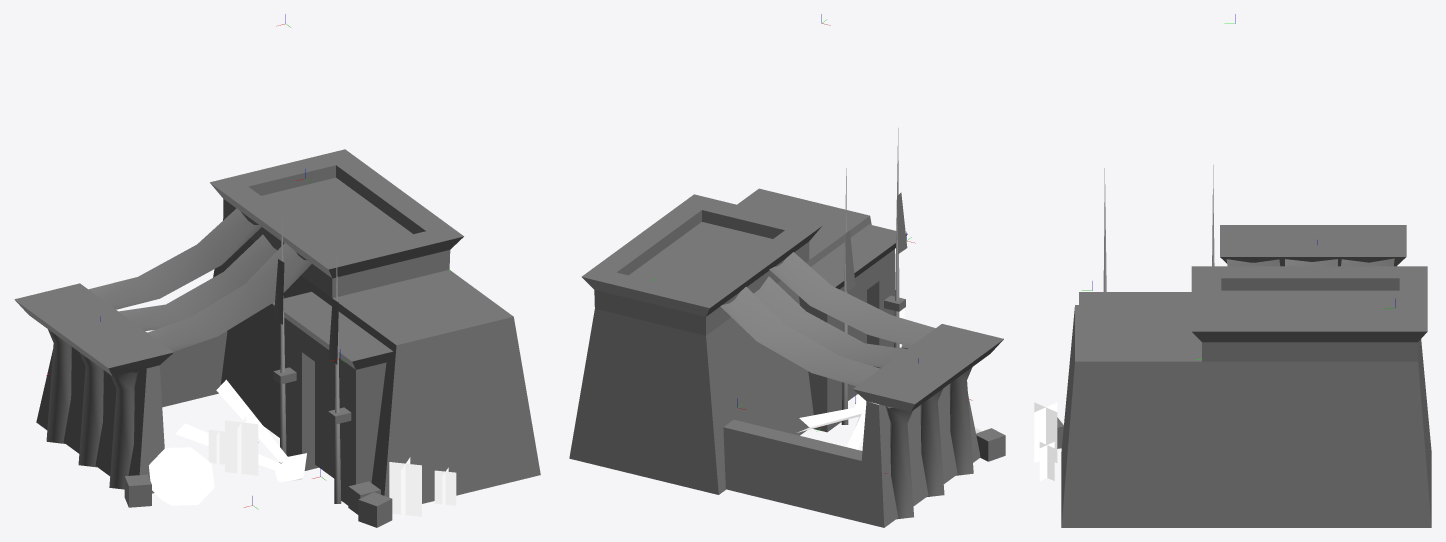
Rendered from idle.glb.
The picture shows the model from 3 angles, left to right: view 1: azimuth 30°, elevation 25°; view 2: azimuth 150°, elevation 25°; view 3: azimuth 270°, elevation 25°; orthographic projection. The views are drawn at different scales.
Parts seen in each view (by area): view 1: idleModel; view 2: idleModel; view 3: idleModel.
Boxes of the visible parts, <box> form: idleModel: <box>14,149,540,527</box>; idleModel: <box>569,128,1005,527</box>; idleModel: <box>1034,165,1431,527</box>.
Bounding box in the file's own units: 9.28 × 11.14 × 9.16.
Materials: 7 (6 with a texture image).
